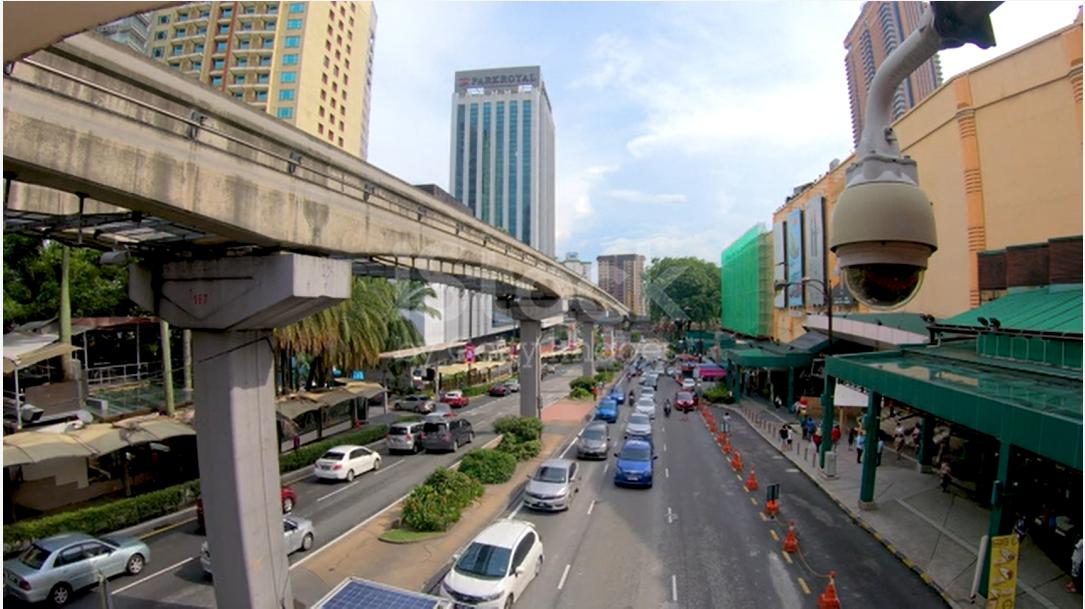car: (0, 508, 173, 597), (431, 517, 558, 606), (216, 507, 371, 570), (293, 425, 397, 488), (515, 445, 585, 520), (604, 432, 664, 500), (411, 407, 490, 455), (575, 421, 615, 469)
